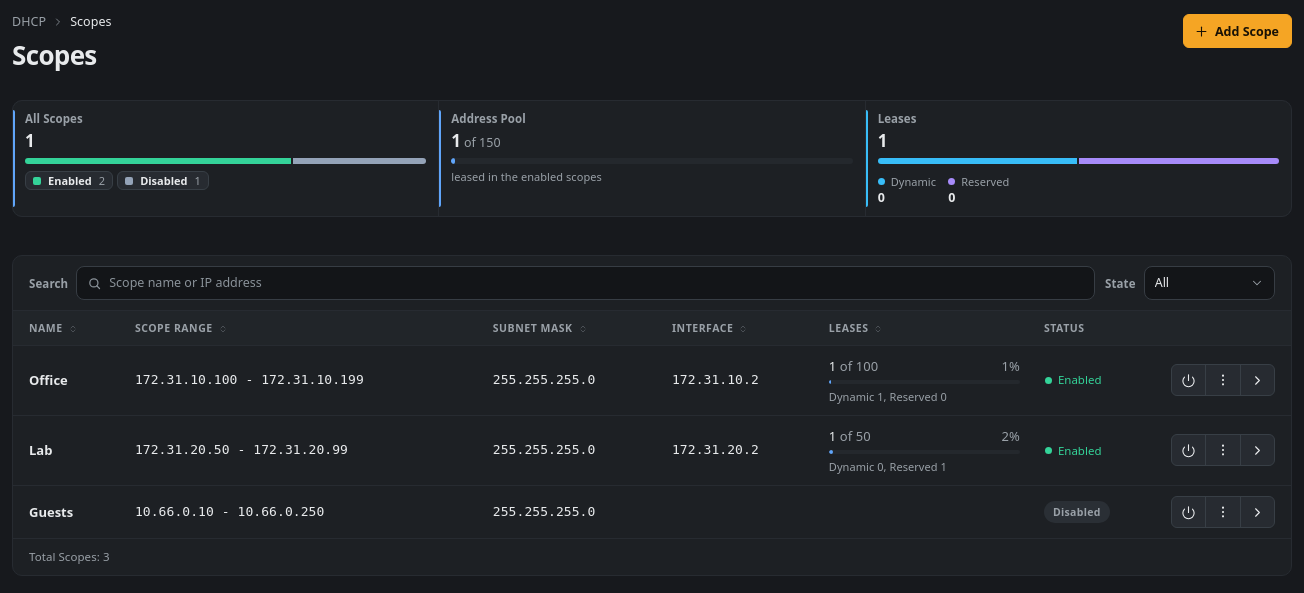
Scenario: the scope list › the search finds a scope by name or by an address its range holds
The width and height of the screenshot is (1304, 593).
Expected: the text "Total Scopes: 3" is shown, [29,548,110,566]
Type "172.31.20.77" into the field labelled "Search" at coordinates (586, 283), box [76,266,1095,300]
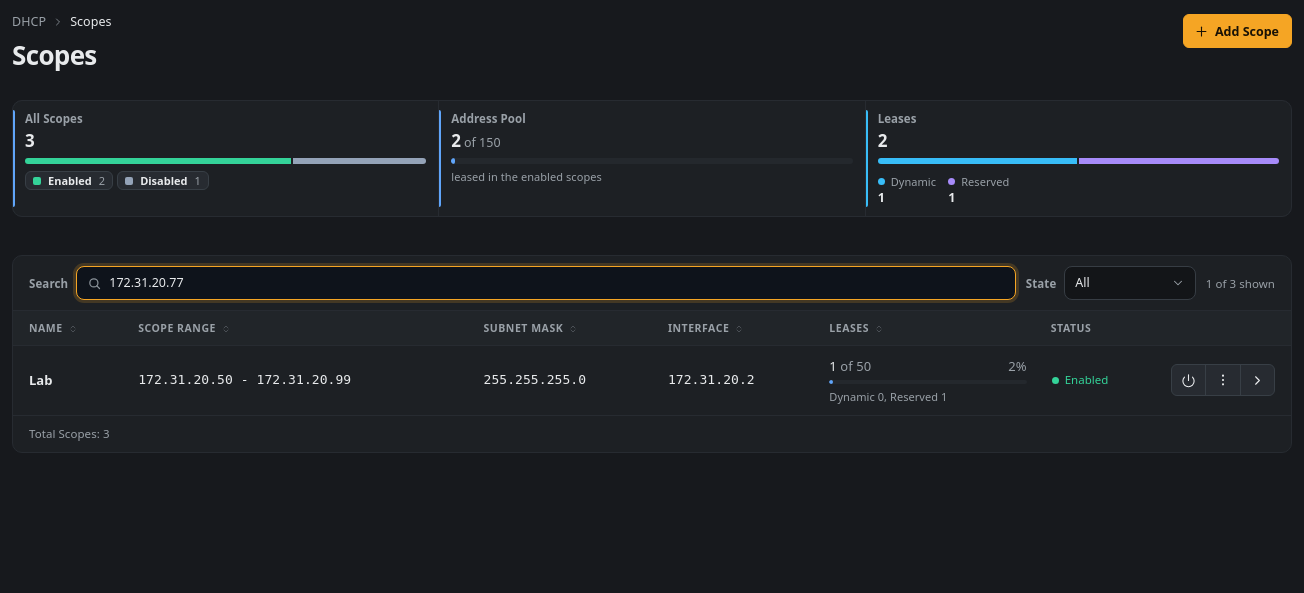
Expected: the button "Lab" is shown, [29,370,52,390]
Now the button "Office" is gone
Now the text "1 of 3 shown" is shown, box [1206,274,1275,292]
Clear the field labelled "Search" at coordinates (546, 283), box [76,266,1016,300]
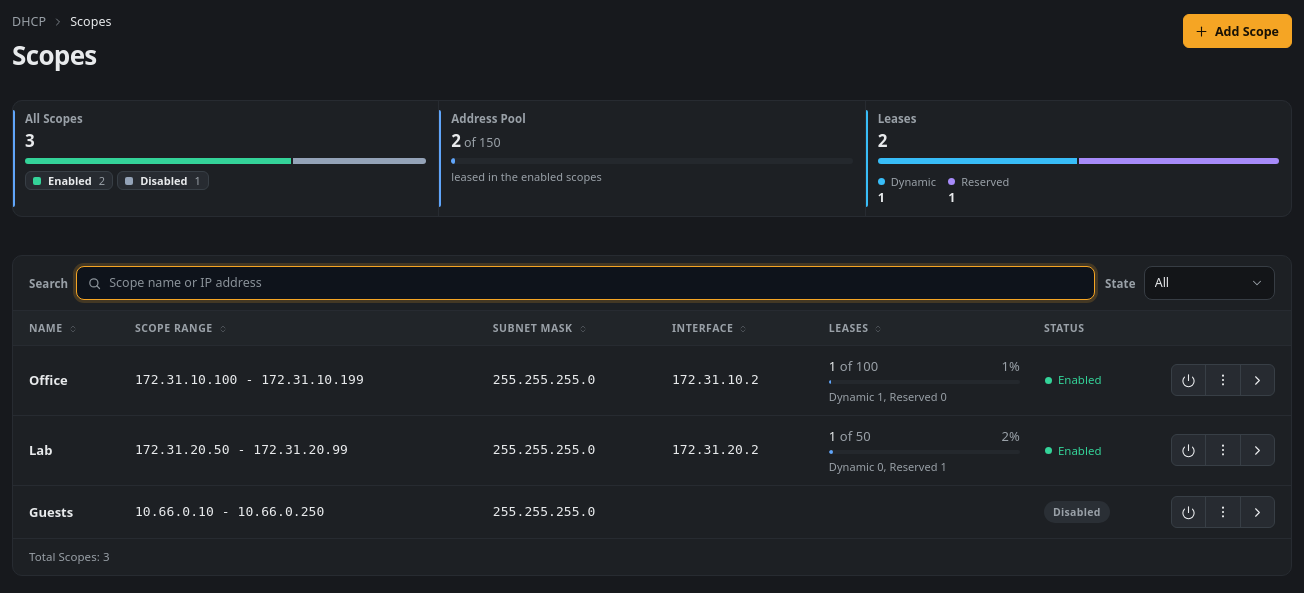
Type "nothing-here" into the field labelled "Search" at coordinates (586, 283), box [76,266,1095,300]
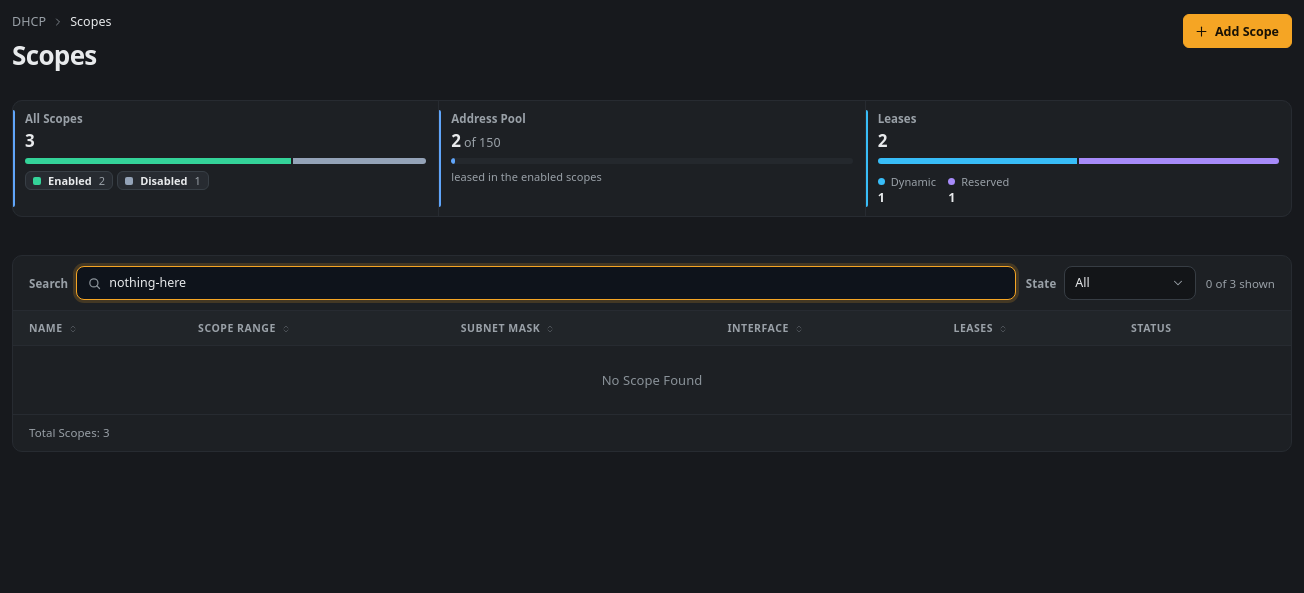
Now the text "No Scope Found" is shown, box [13,345,1291,414]
